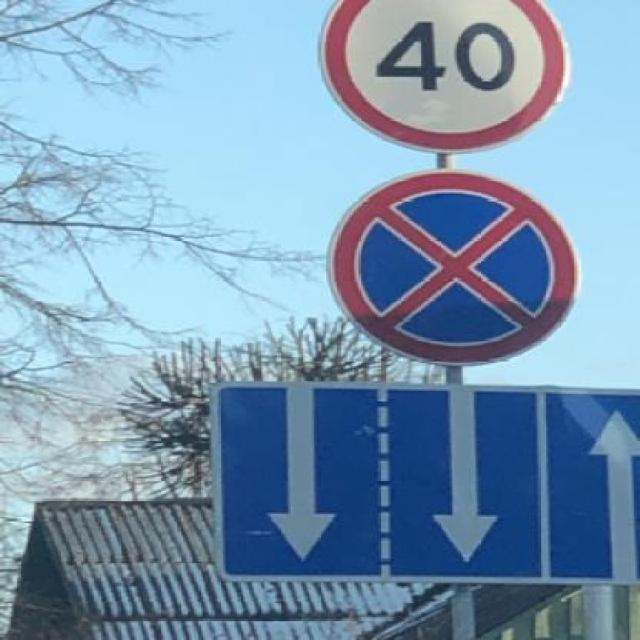forb_speed_over_40: (322, 3, 567, 151)
